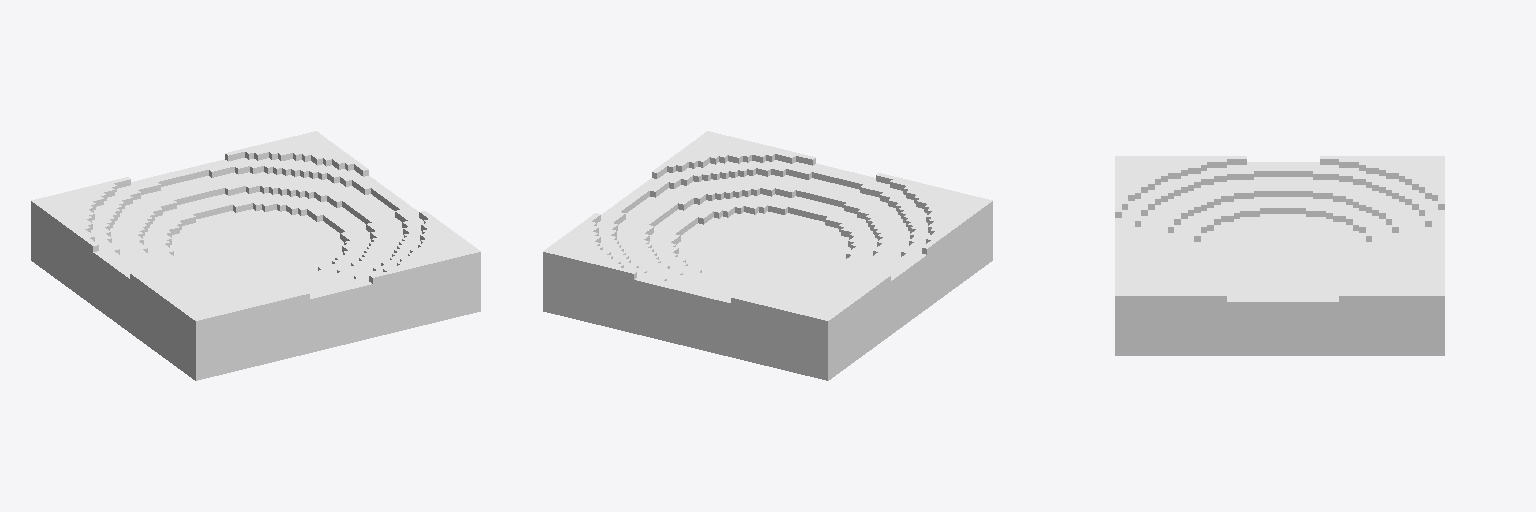
Rendered from cannonBase.obj.
The picture shows the model from 3 angles: view 1: azimuth 30°, elevation 25°; view 2: azimuth 150°, elevation 25°; view 3: azimuth 270°, elevation 25°; orthographic projection.
Bounding box in the file's own units: 50 × 10 × 50.